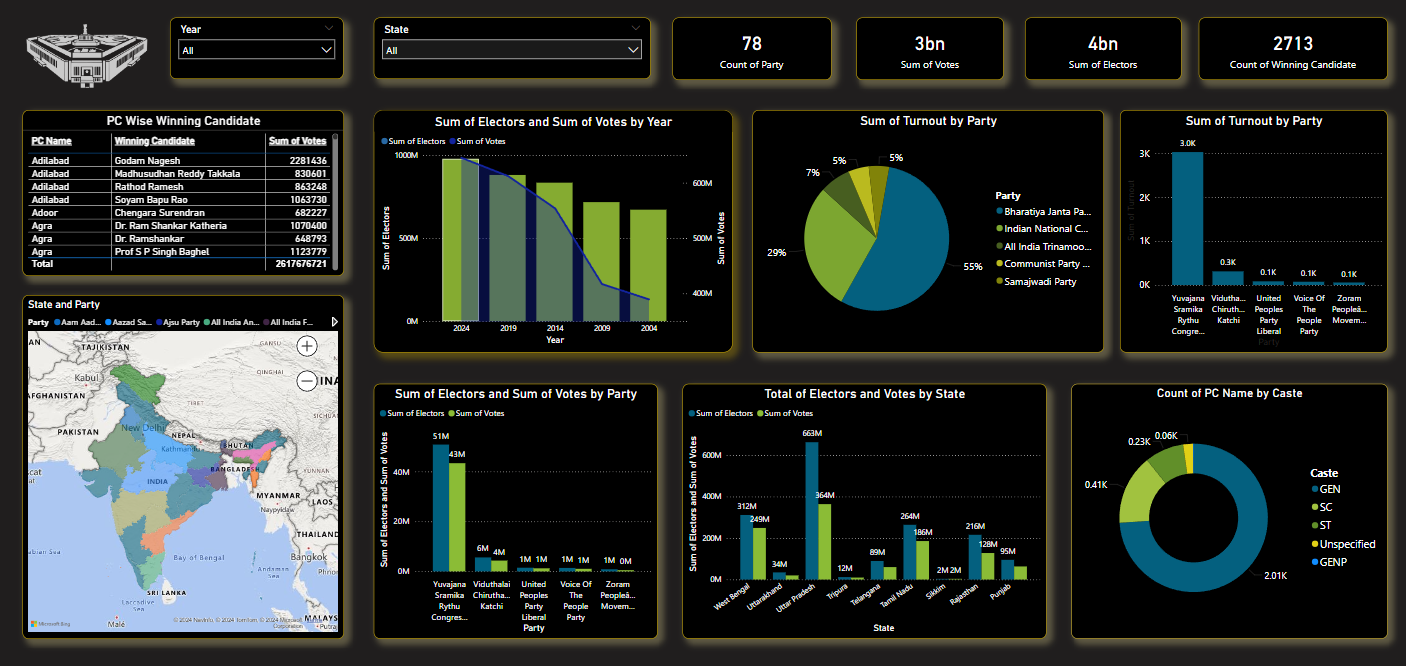

The page's visual inventory and layout, read from the dashboard file:
{"tool":"powerbi","page":{"name":"Page 2","canvas":[2250,1070],"ordinal":0},"visuals":[{"type":"clusteredColumnChart","title":"Total of Electors and Votes by State","fields":{"Y":["Sum(Final_Election_Data (2004-2024)_sys.Electors)","Sum(Final_Election_Data (2004-2024)_sys.Votes)"],"Category":["Final_Election_Data (2004-2024)_sys.State"]},"box":[1092,614,582,408],"z":0},{"type":"pieChart","fields":{"Category":["Final_Election_Data (2004-2024)_sys.Party"],"Y":["Sum(Final_Election_Data (2004-2024)_sys.Turnout)"]},"box":[1204,176,562,388],"z":1000},{"type":"donutChart","fields":{"Category":["Final_Election_Data (2004-2024)_sys.Caste"],"Y":["CountNonNull(Final_Election_Data (2004-2024)_sys.PC Name)"]},"box":[1714,614,506,408],"z":2000},{"type":"clusteredColumnChart","fields":{"Category":["Final_Election_Data (2004-2024)_sys.Party"],"Y":["Sum(Final_Election_Data (2004-2024)_sys.Electors)","Sum(Final_Election_Data (2004-2024)_sys.Votes)"]},"box":[598,614,454,408],"z":3000},{"type":"slicer","fields":{"Values":["Final_Election_Data (2004-2024)_sys.Year"]},"box":[272.5,28.7,277.9,98.6],"z":4000},{"type":"slicer","fields":{"Values":["Final_Election_Data (2004-2024)_sys.State"]},"box":[598.8,28.7,442.8,98.6],"z":5000},{"type":"card","fields":{"Values":["Sum(Final_Election_Data (2004-2024)_sys.Electors)"]},"box":[1640,28,250,100],"z":6000},{"type":"card","fields":{"Values":["Sum(Final_Election_Data (2004-2024)_sys.Votes)"]},"box":[1370,28,236,100],"z":7000},{"type":"filledMap","fields":{"Category":["Final_Election_Data (2004-2024)_sys.State"],"Series":["Final_Election_Data (2004-2024)_sys.Party"]},"box":[36,472,514,550],"z":8000},{"type":"card","fields":{"Values":["Count(Final_Election_Data (2004-2024)_sys.Party)"]},"box":[1076,28,254,100],"z":9000},{"type":"clusteredColumnChart","fields":{"Category":["Final_Election_Data (2004-2024)_sys.Party"],"Y":["Sum(Final_Election_Data (2004-2024)_sys.Turnout)"]},"box":[1792,176,428,388],"z":10000},{"type":"lineStackedColumnComboChart","fields":{"Category":["Final_Election_Data (2004-2024)_sys.Year"],"Y":["Sum(Final_Election_Data (2004-2024)_sys.Electors)"],"Y2":["Sum(Final_Election_Data (2004-2024)_sys.Votes)"]},"box":[598,176,574,388],"z":11000},{"type":"card","fields":{"Values":["CountNonNull(Final_Election_Data (2004-2024)_sys.Winning Candidate)"]},"box":[1918,28,302,100],"z":12000},{"type":"tableEx","title":"PC Wise Winning Candidate","fields":{"Values":["Final_Election_Data (2004-2024)_sys.PC Name","Final_Election_Data (2004-2024)_sys.Winning Candidate","Sum(Final_Election_Data (2004-2024)_sys.Votes)"]},"box":[36.1,176.9,514.3,265.3],"z":13000},{"type":"image","box":[35.9,28.7,206.2,121.9],"z":14000}]}

Visuals, with their boxes in screenshot pixels (x1, y1, x2, y2), scaled from the page's 2250x1070 canvas onto the 1406x666 screenshot:
"Total of Electors and Votes by State" clusteredColumnChart: box=[682, 382, 1046, 636]
pieChart - Final_Election_Data (2004-2024)_sys.Party x Sum(Final_Election_Data (2004-2024)_sys.Turnout): box=[752, 110, 1104, 351]
donutChart - Final_Election_Data (2004-2024)_sys.Caste x CountNonNull(Final_Election_Data (2004-2024)_sys.PC Name): box=[1071, 382, 1387, 636]
clusteredColumnChart - Final_Election_Data (2004-2024)_sys.Party x Sum(Final_Election_Data (2004-2024)_sys.Electors): box=[374, 382, 657, 636]
slicer - Final_Election_Data (2004-2024)_sys.Year: box=[170, 18, 344, 79]
slicer - Final_Election_Data (2004-2024)_sys.State: box=[374, 18, 651, 79]
card - Sum(Final_Election_Data (2004-2024)_sys.Electors): box=[1025, 17, 1181, 80]
card - Sum(Final_Election_Data (2004-2024)_sys.Votes): box=[856, 17, 1004, 80]
filledMap - Final_Election_Data (2004-2024)_sys.State x Final_Election_Data (2004-2024)_sys.Party: box=[22, 294, 344, 636]
card - Count(Final_Election_Data (2004-2024)_sys.Party): box=[672, 17, 831, 80]
clusteredColumnChart - Final_Election_Data (2004-2024)_sys.Party x Sum(Final_Election_Data (2004-2024)_sys.Turnout): box=[1120, 110, 1387, 351]
lineStackedColumnComboChart - Final_Election_Data (2004-2024)_sys.Year x Sum(Final_Election_Data (2004-2024)_sys.Electors): box=[374, 110, 732, 351]
card - CountNonNull(Final_Election_Data (2004-2024)_sys.Winning Candidate): box=[1199, 17, 1387, 80]
"PC Wise Winning Candidate" tableEx: box=[23, 110, 344, 275]
image: box=[22, 18, 151, 94]
